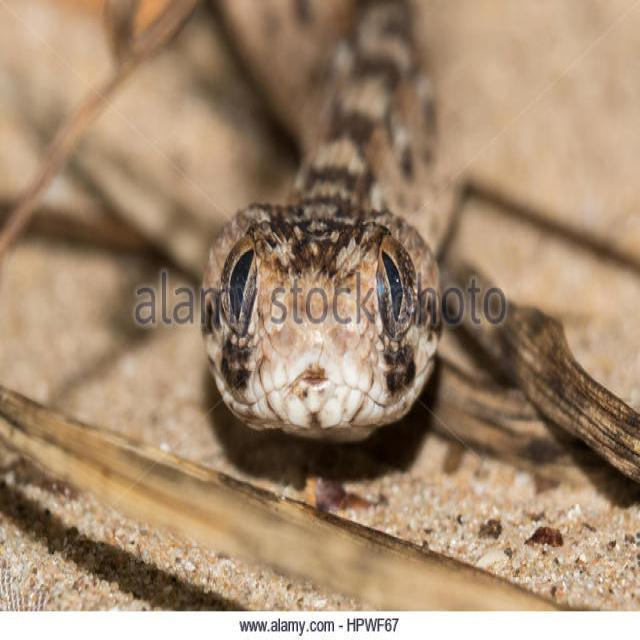Snake: (193, 0, 472, 438)
